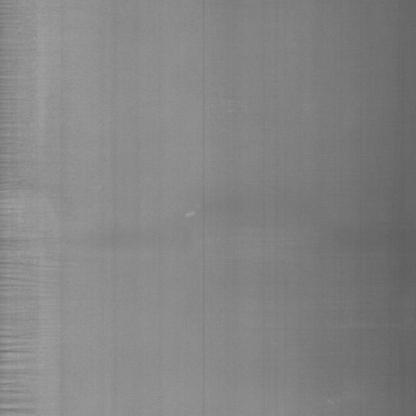waist_folding: (0, 25, 60, 398)
